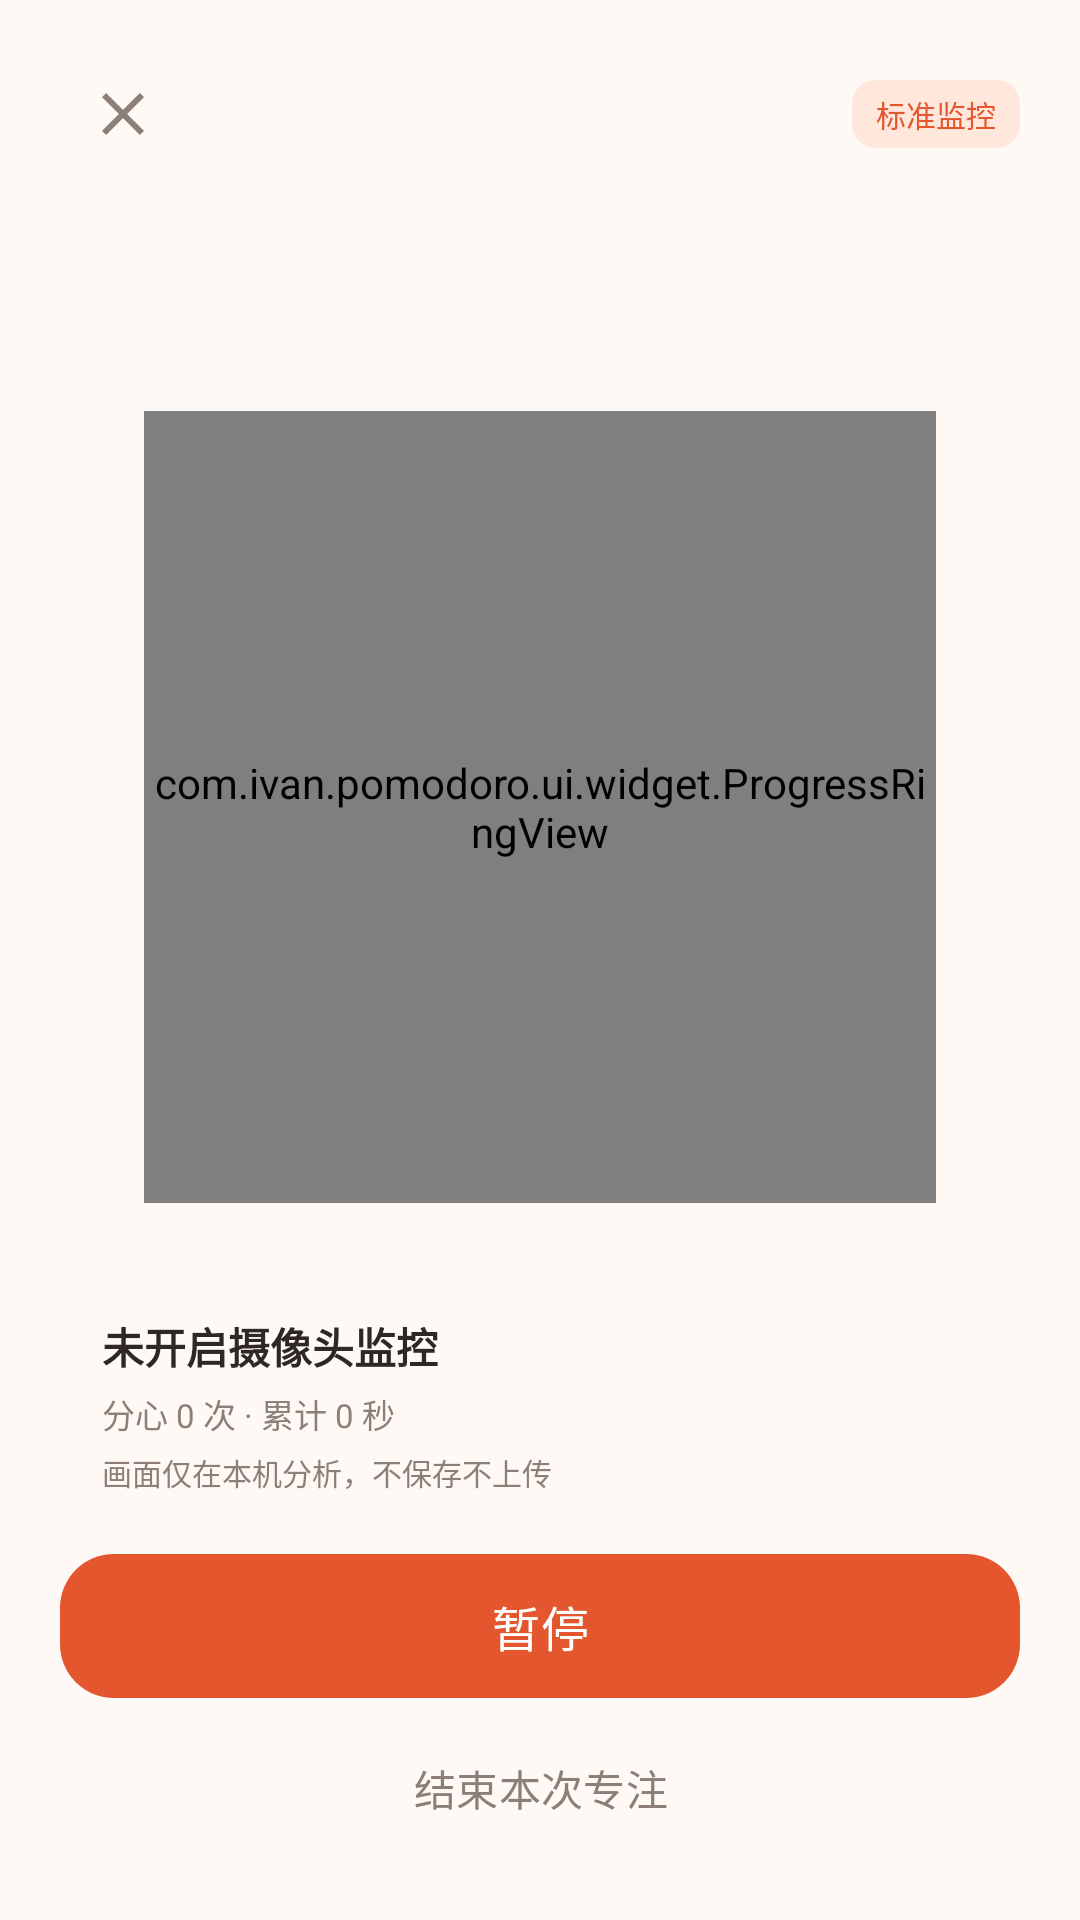

Named icons in this screenshot (1080 x 1920) and their bounding boxes, (x1, y1, x2, y2):
关闭: (102, 93, 144, 135)
